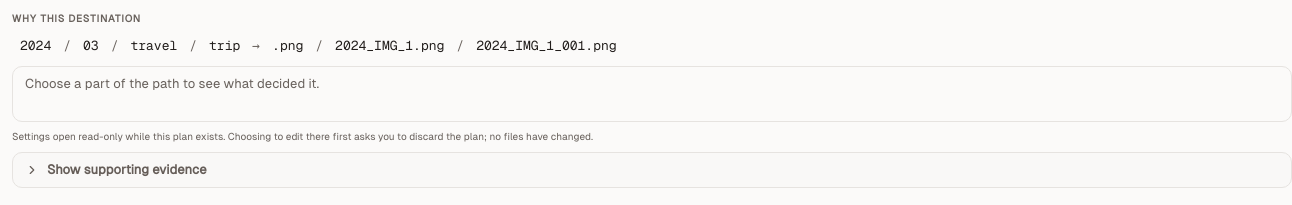
Test: DestinationExplanation › offers no setting for a part no setting decided
The width and height of the screenshot is (1292, 205).
Click the button "2024_IMG_1_001.png" at (546, 46), box [468, 34, 624, 58]
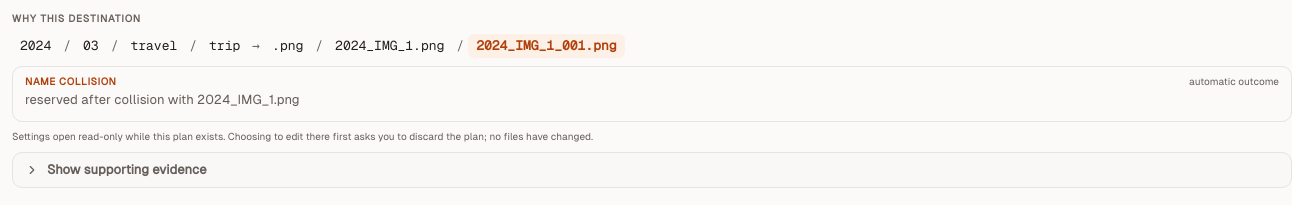
Result: the text "automatic outcome" is shown at [1189, 75, 1279, 89]
